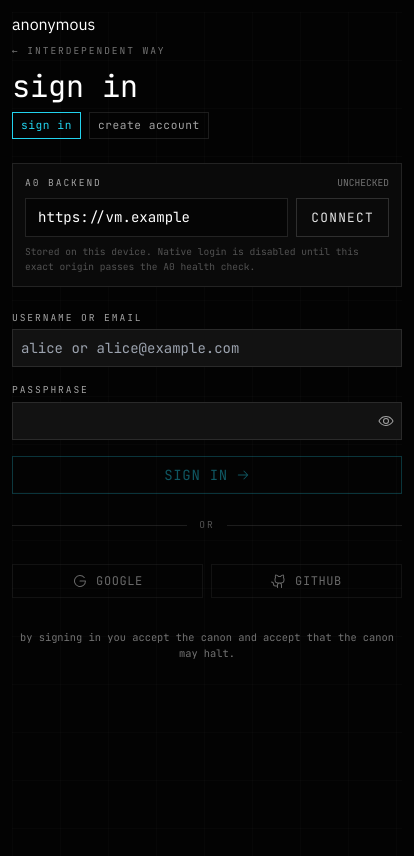
Test case: OAuth surfaces session installation failure: storage denied
Click the button "connect".
click(343, 218)  # box [296,198,389,237]
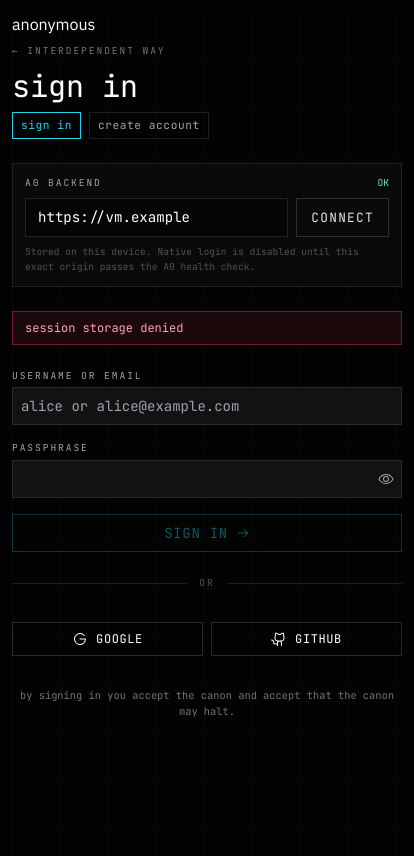
Check: the text "anonymous" is shown, box [12,14,95,34]
Check: the text "session storage denied" is shown, box [12,311,402,345]
